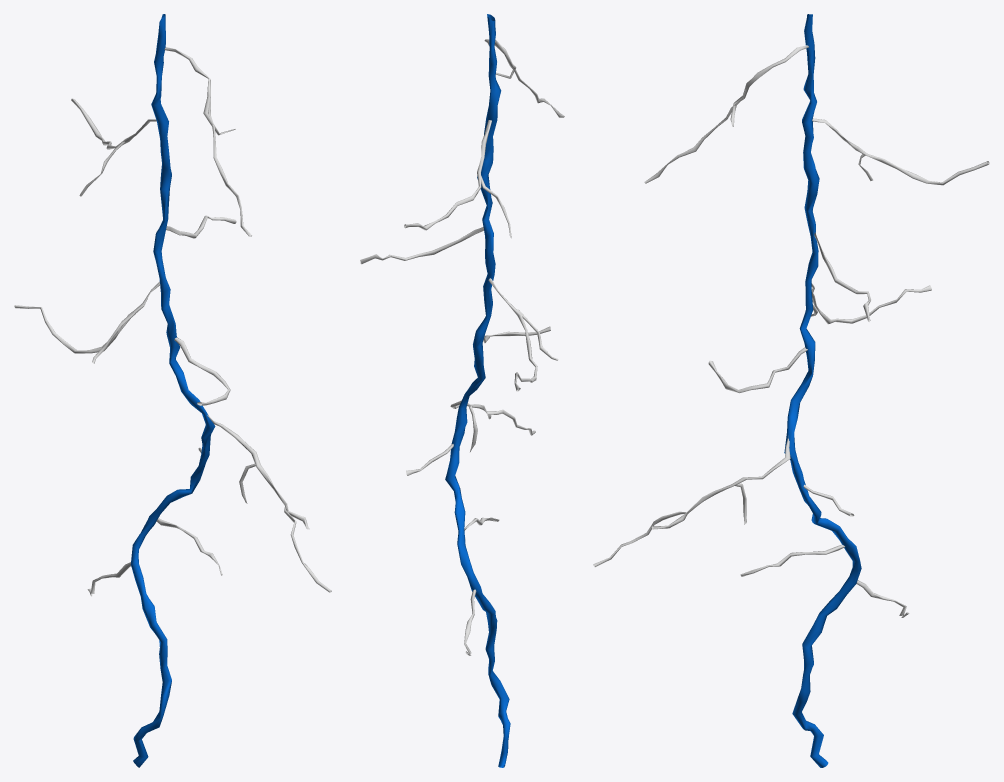
Rendered from LightingStrike_1.fbx.
The picture shows the model from 3 angles, left to right: view 1: azimuth 30°, elevation 25°; view 2: azimuth 150°, elevation 25°; view 3: azimuth 270°, elevation 25°; orthographic projection. The views are drawn at different scales.
Parts seen in each view (by area): view 1: LightingStrike_1; view 2: LightingStrike_1; view 3: LightingStrike_1.
Boxes of the visible parts, x1=… form: LightingStrike_1: x1=14, y1=14, x2=331, y2=767; LightingStrike_1: x1=360, y1=14, x2=564, y2=767; LightingStrike_1: x1=593, y1=14, x2=989, y2=767.
Size of the model in its own units: 1360 by 5086 by 2391.
